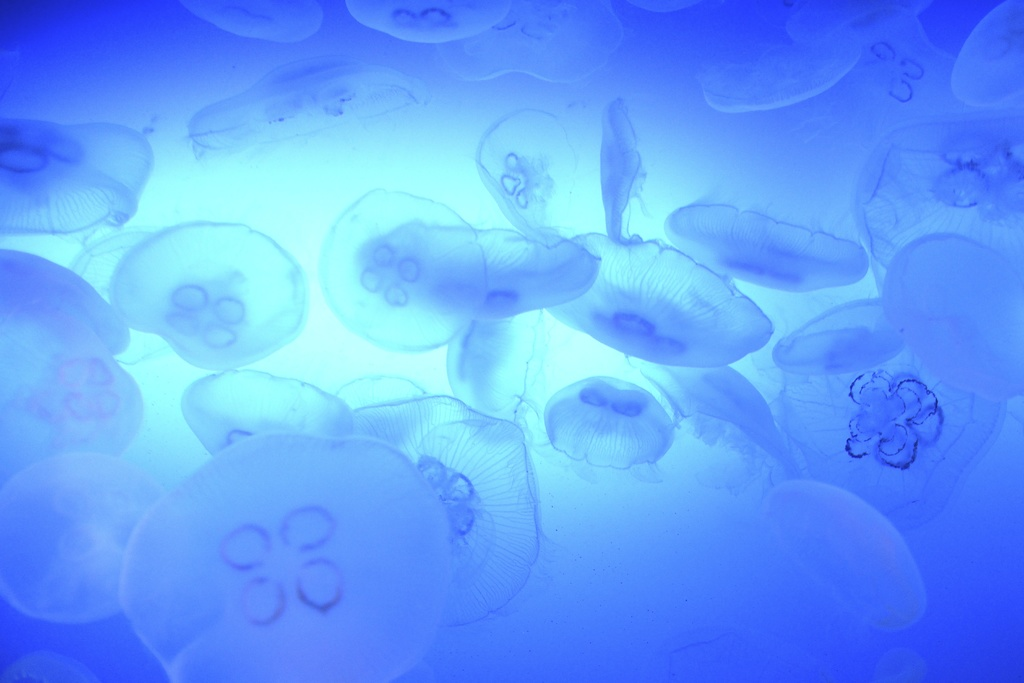Jellyfish: (0, 0, 1023, 682), (117, 369, 516, 683), (540, 88, 776, 369)
